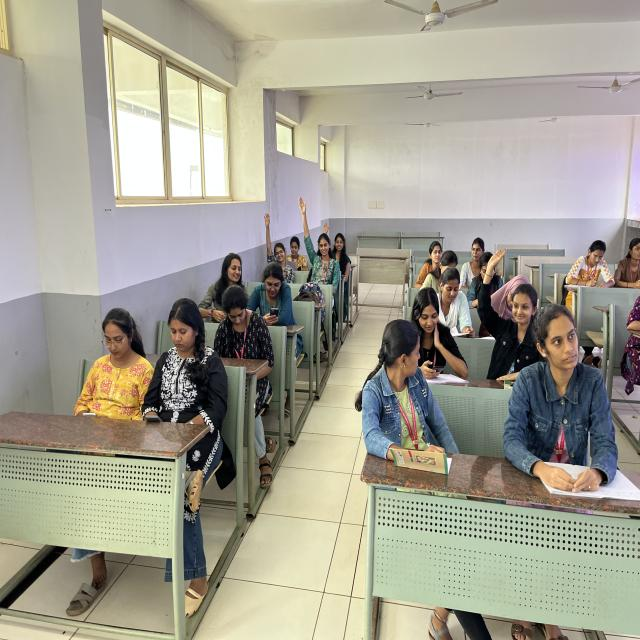Hand Rising: (475, 245, 535, 358), (296, 194, 336, 287), (261, 210, 294, 280), (322, 218, 354, 270)
Reading: (431, 267, 476, 339)
Using Phone: (142, 293, 218, 435), (76, 304, 151, 423), (407, 282, 466, 385), (213, 284, 270, 364), (248, 261, 292, 327)
Writing: (564, 234, 617, 300)
